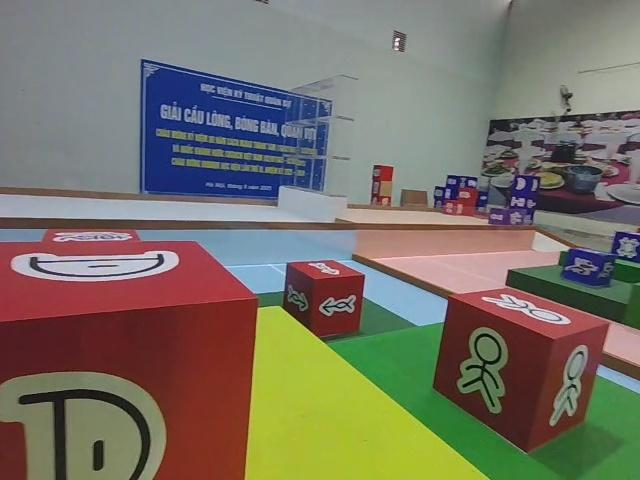R2 Real: (0, 237, 261, 480), (431, 285, 612, 453), (282, 257, 366, 339)
